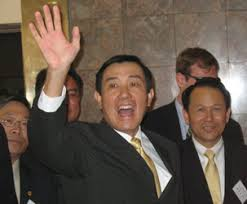palm: (26, 3, 84, 71)
